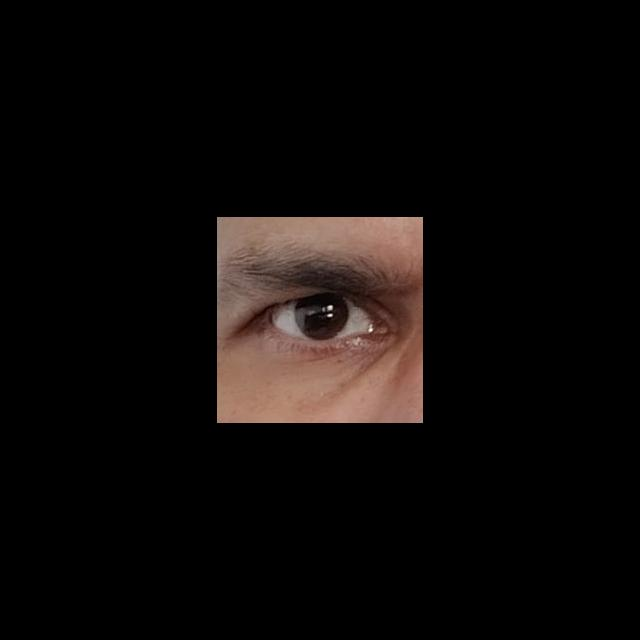eye: (270, 293, 376, 342)
iris: (295, 295, 349, 341)
